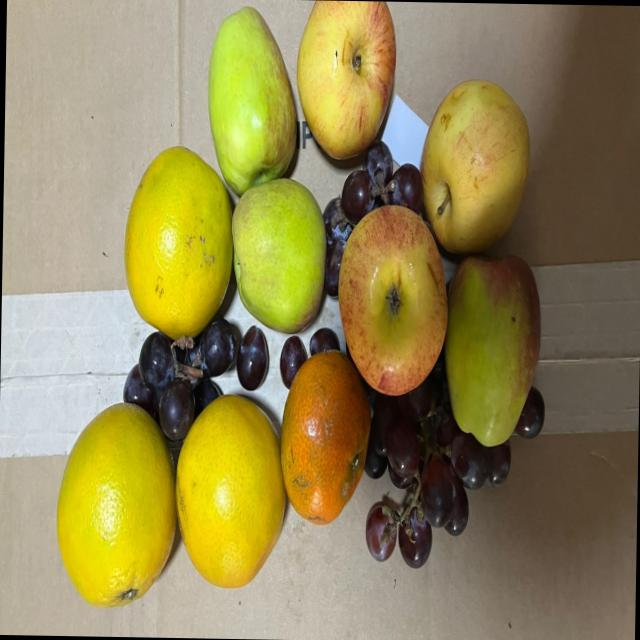hoja: (377, 91, 428, 172)
